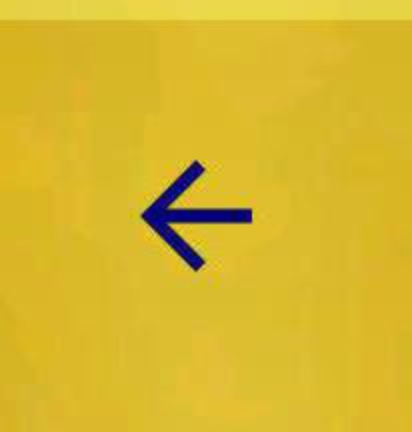ImgButton: (1, 1, 411, 431)
